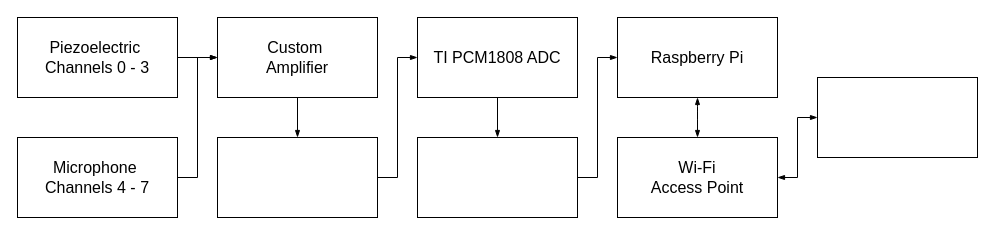
This 995x235 diagram has some shape labels left out. The centre of each missing label's shape, as x and y in pixels:
"Data Aquisition Computer" belongs at (897,117).
"I2S Interface" belongs at (297,177).
"miniDSP 367 MHCStreamer" belongs at (497,177).
